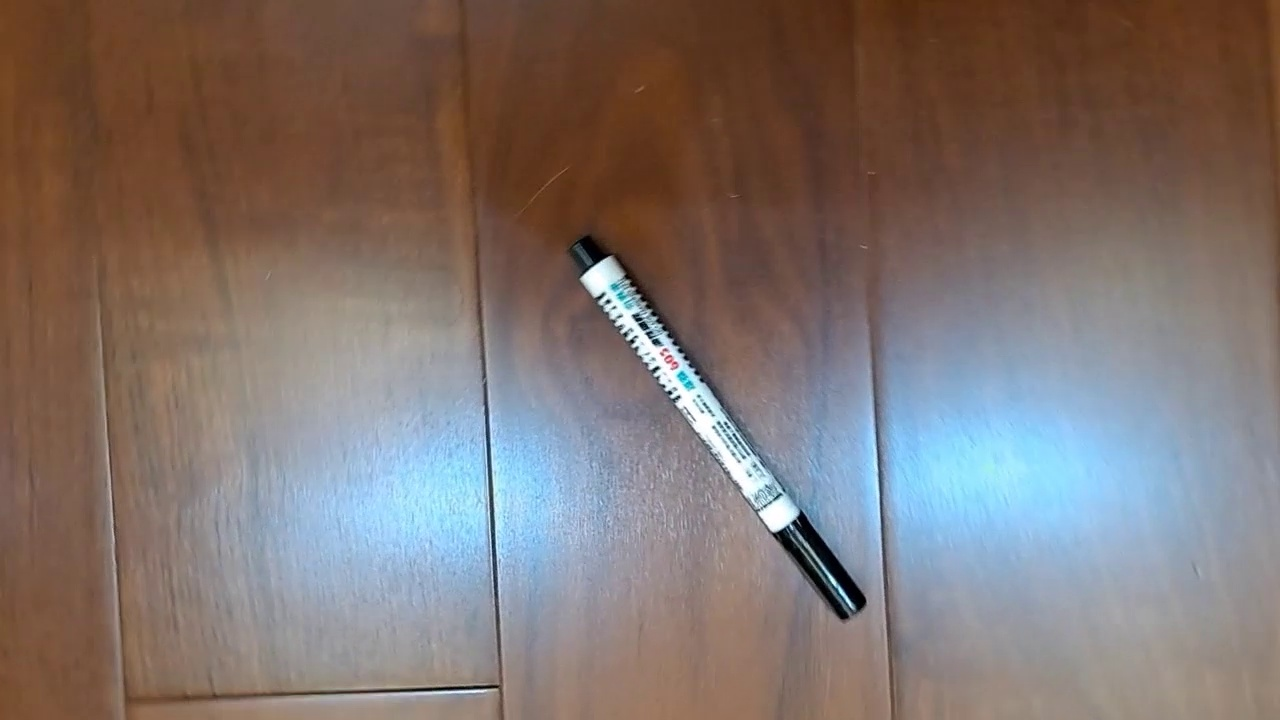pen: (566, 233, 867, 622)
